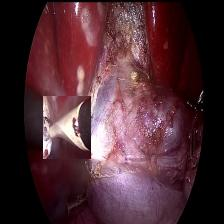Grasper: (62, 183, 98, 220)
Hook: (42, 95, 90, 158)
